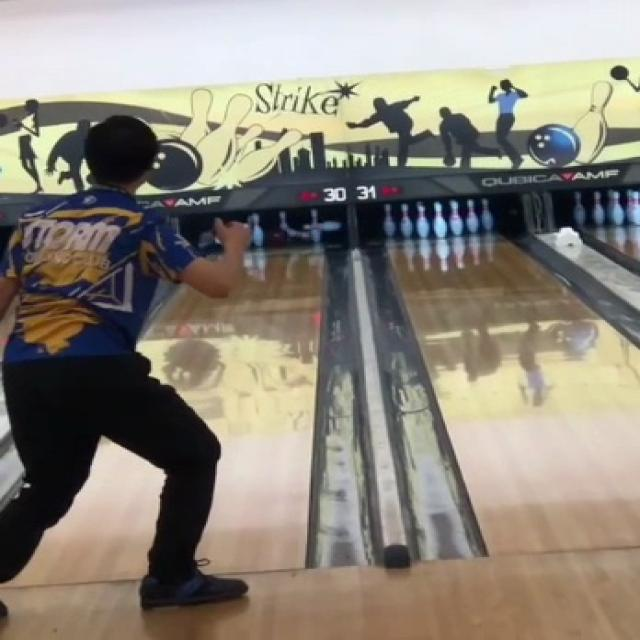alley: (140, 251, 322, 572), (13, 441, 162, 586)
balls: (263, 228, 292, 248)
bottle: (241, 208, 344, 246)
